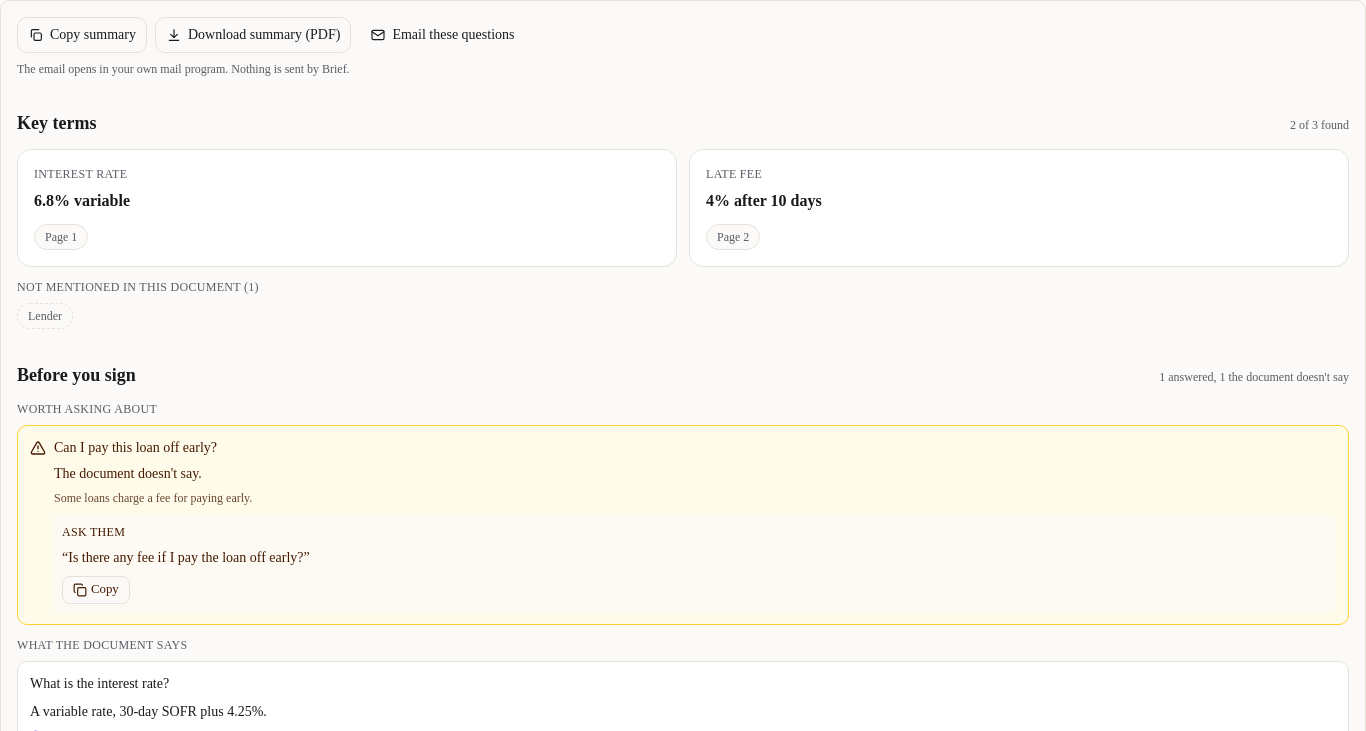
OverviewPanel checklist › says so when copying is blocked, instead of looking like nothing happened
Click the button with aria-label "Copy the wording for: Can I pay this loan off early?": (96, 590) x1=62 y1=576 x2=130 y2=604
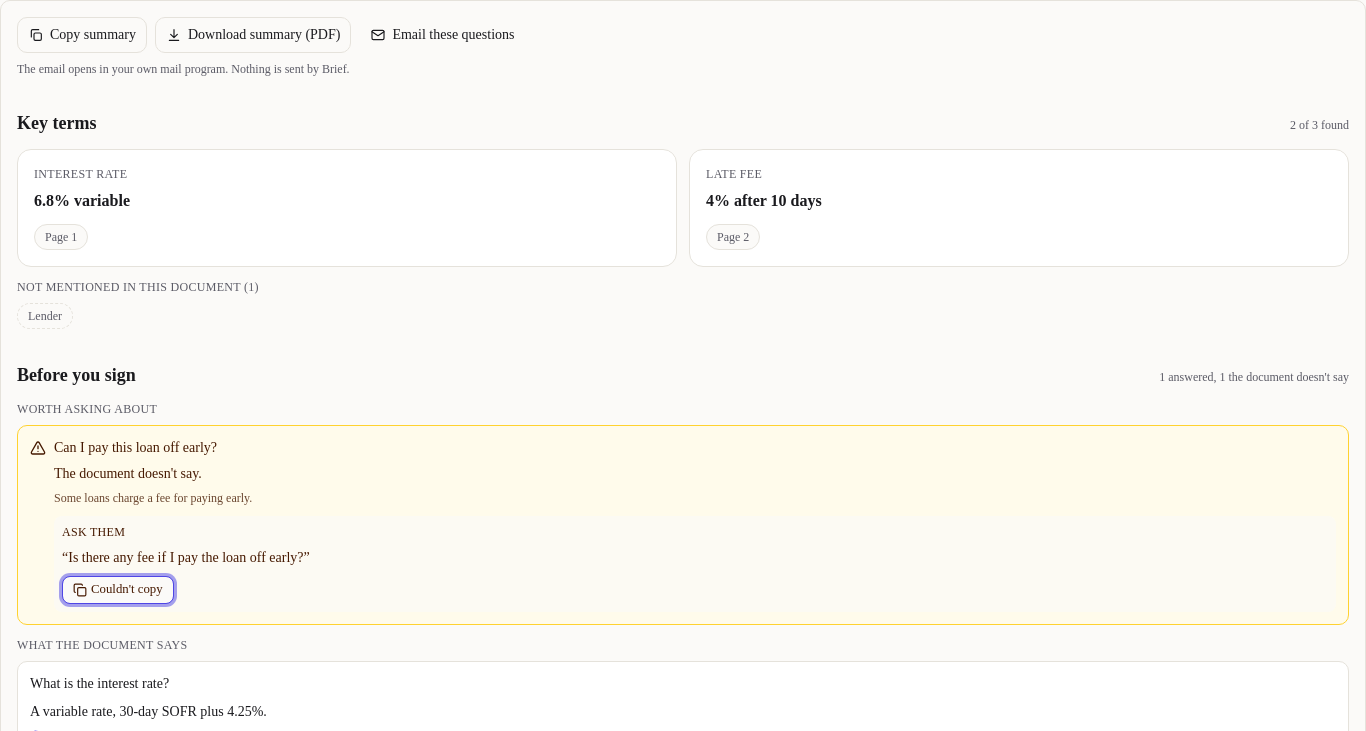
Now the button with aria-label "Copy the wording for: Can I pay this loan off early?" reads "Couldn't copy", box x1=62 y1=576 x2=174 y2=604
